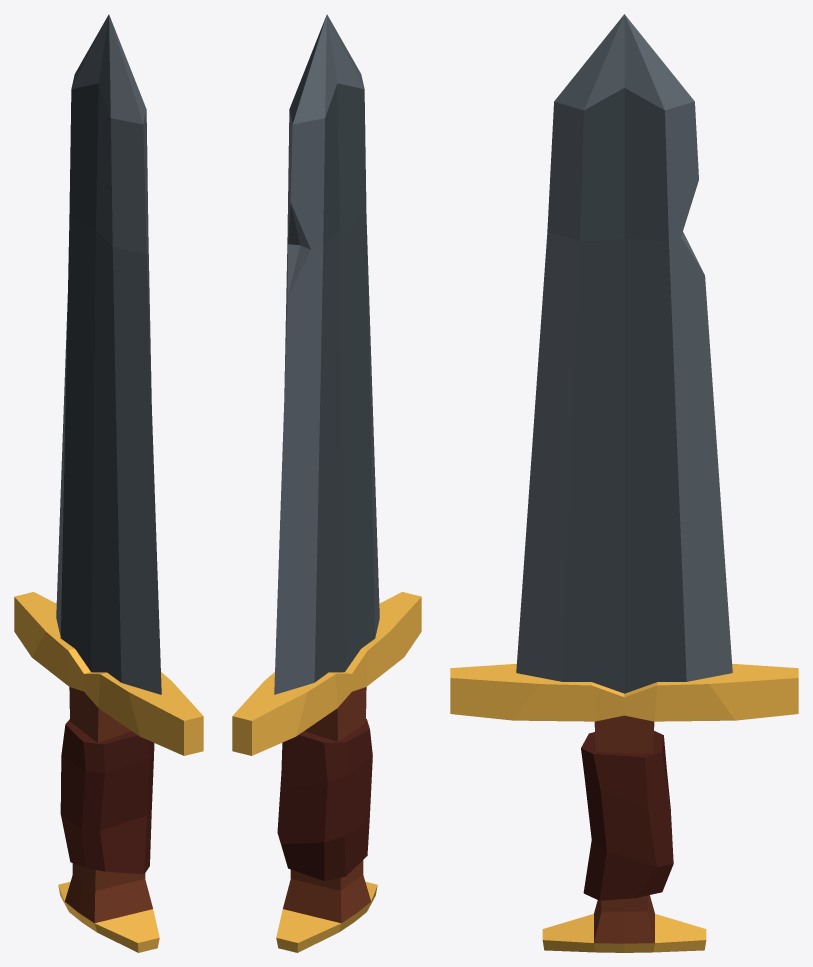
The model's file is dagger.fbx.
3 views of the same model, side by side, from view 1: azimuth 30°, elevation 25°; view 2: azimuth 150°, elevation 25°; view 3: azimuth 270°, elevation 25° (orthographic). The views are drawn at different scales.
Parts seen in each view (by area): view 1: dagger; view 2: dagger; view 3: dagger.
Boxes of the visible parts, <box> form: dagger: <box>14,14,203,952</box>; dagger: <box>232,14,421,952</box>; dagger: <box>450,14,798,952</box>.
Bounding box in the file's own units: 2.57 × 32.24 × 10.93.
